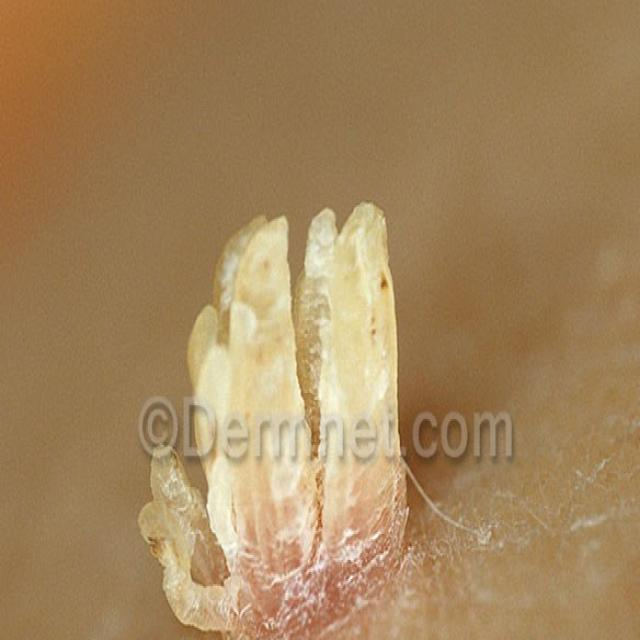Warts: (120, 191, 492, 640)
